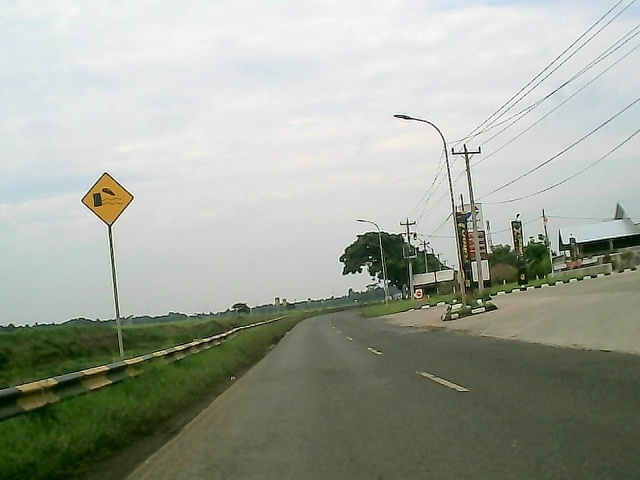Peringatan tepi air: (78, 171, 140, 229)
